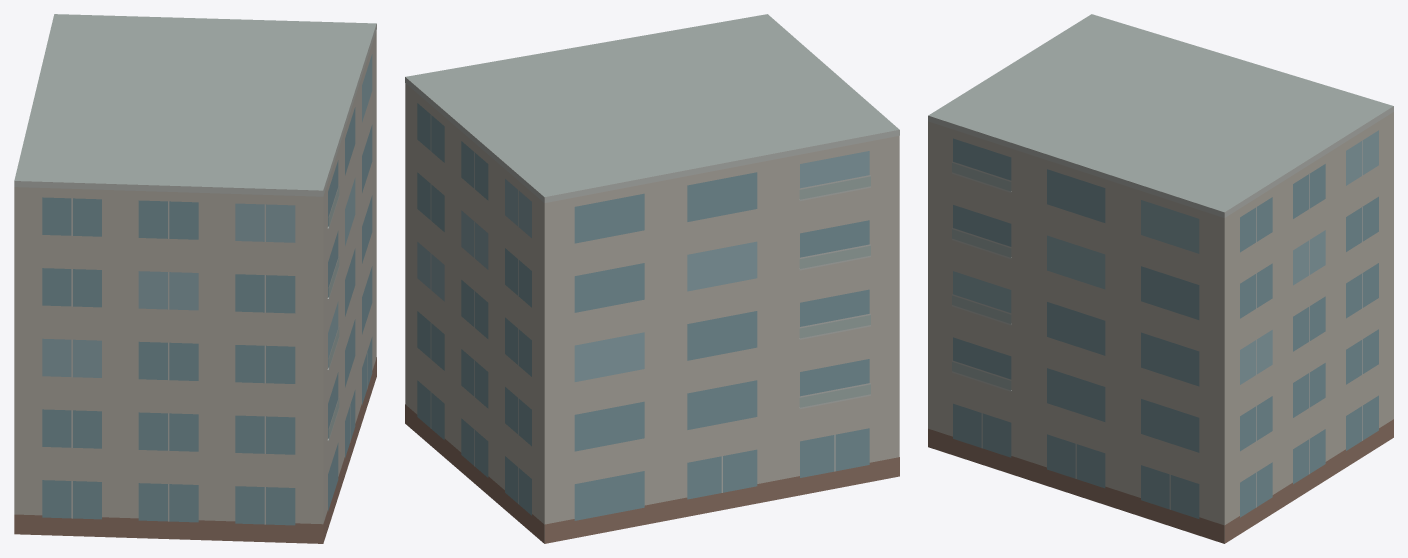
Rendered from survey-upis-32859064.glb.
3 renders of one model, left to right at view 1: azimuth 30°, elevation 25°; view 2: azimuth 150°, elevation 25°; view 3: azimuth 270°, elevation 25°, orthographic. The views are drawn at different scales.
Parts seen in each view (by area): view 1: survey-upis-32859064.tmp; view 2: survey-upis-32859064.tmp; view 3: survey-upis-32859064.tmp.
Part boxes in pixels (box(x1,y1,x2,y2)): survey-upis-32859064.tmp: box(14, 14, 376, 543); survey-upis-32859064.tmp: box(405, 14, 899, 543); survey-upis-32859064.tmp: box(928, 14, 1393, 543).
Bounding box in the file's own units: 18.1 × 14.1 × 17.96.
